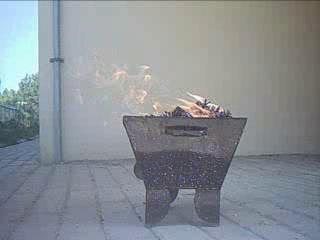fire: (84, 57, 216, 124)
